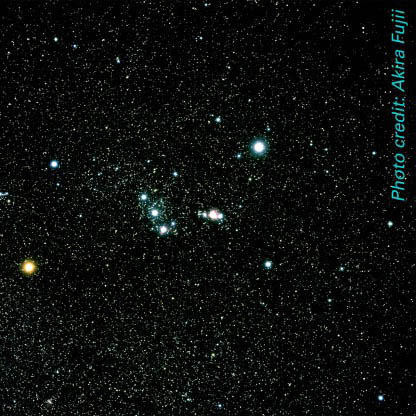Orion: (5, 249, 44, 282), (242, 132, 273, 159), (259, 254, 280, 274), (42, 156, 65, 173), (154, 223, 174, 240), (133, 186, 150, 205), (143, 205, 161, 222)
